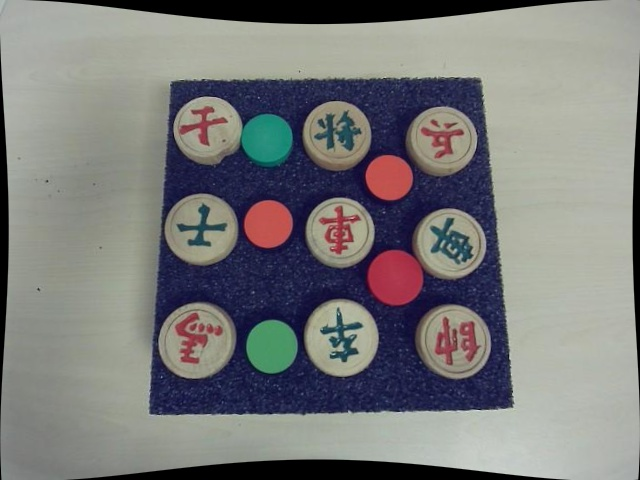Black-Chariot: (410, 206, 483, 277)
Black-General: (305, 103, 372, 173)
Black-Guard: (166, 193, 239, 265)
Black-Soldier: (306, 298, 381, 375)
Red-Chariot: (306, 197, 375, 267)
Red-General: (413, 305, 489, 379)
Red-Guard: (175, 99, 243, 167)
Red-Horse: (159, 302, 236, 378)
Red-Soldier: (407, 104, 479, 177)
